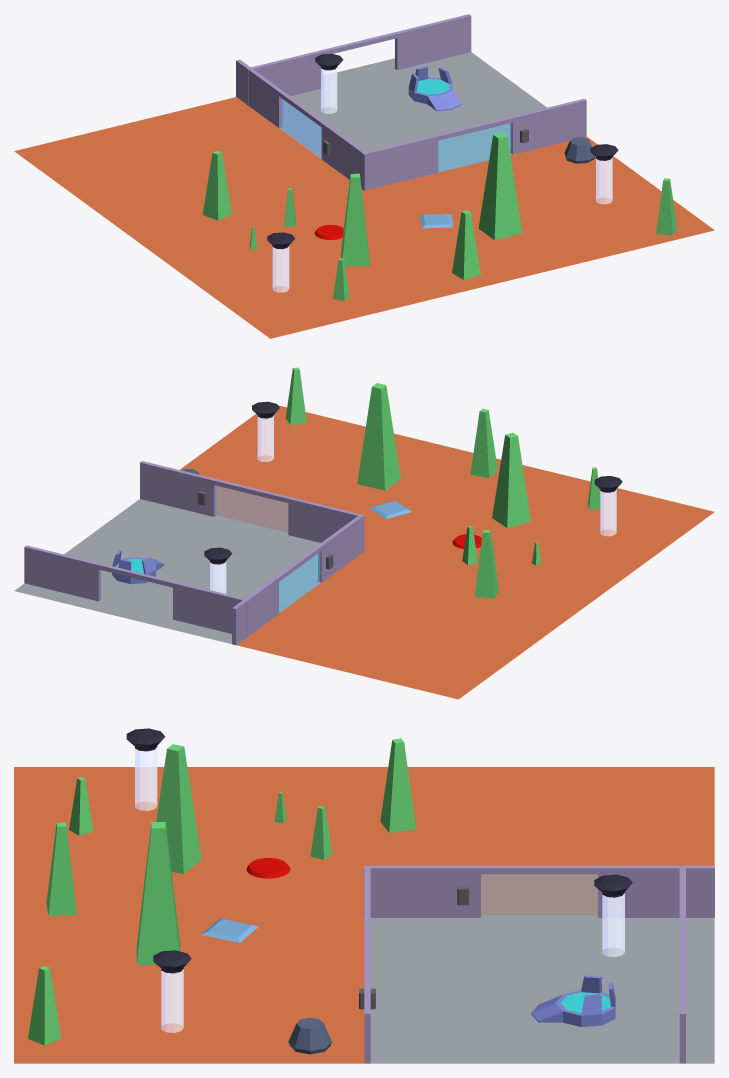
File: iris.glb
3 views of the same model, one above another, from view 1: azimuth 30°, elevation 25°; view 2: azimuth 150°, elevation 25°; view 3: azimuth 270°, elevation 25° (orthographic). The views are drawn at different scales.
Visible parts, largest first — view 1: Ground.003, Ground.002, Ground, Ground.001, WallNorth, WallNorth.001, WallEast, Plant Tree, Plant Tree.001, BarrierField.001, VortexGate, Plant Tree.004 (+7 smaller); view 2: Ground.003, Ground.002, Ground, Ground.001, WallNorth.001, WallNorth, WallEast, Plant Tree, Plant Tree.001, BarrierField.001, Plant Tree.003, BarrierField.002 (+6 smaller); view 3: Ground.001, Ground, Ground.002, Ground.003, WallEast, BarrierField.002, Plant Tree, Plant Tree.001, VortexGate, Plant Tree.004, VortexNode3, VortexNode2 (+10 smaller).
Part boxes in pixels (<box>): Ground.003: <box>14,97,363,244</box>; Ground.002: <box>142,191,491,338</box>; Ground: <box>365,136,714,284</box>; Ground.001: <box>238,52,546,178</box>; WallNorth: <box>362,98,586,190</box>; WallNorth.001: <box>246,14,471,106</box>; WallEast: <box>236,59,368,190</box>; Plant Tree: <box>478,132,522,240</box>; Plant Tree.001: <box>340,173,369,266</box>; BarrierField.001: <box>438,123,511,171</box>; VortexGate: <box>408,66,461,110</box>; Plant Tree.004: <box>202,150,231,220</box>; Ground.003: <box>236,551,586,699</box>; Ground.002: <box>365,458,714,605</box>; Ground: <box>180,405,473,550</box>; Ground.001: <box>14,499,320,643</box>; WallNorth.001: <box>24,545,249,637</box>; WallNorth: <box>140,461,364,552</box>; WallEast: <box>232,514,363,645</box>; Plant Tree: <box>357,383,400,490</box>; Plant Tree.001: <box>492,432,530,528</box>; BarrierField.001: <box>215,485,287,533</box>; Plant Tree.003: <box>470,408,497,478</box>; BarrierField.002: <box>279,552,319,611</box>; Ground.001: <box>370,915,714,1063</box>; Ground: <box>14,915,364,1063</box>; Ground.002: <box>14,767,364,915</box>; Ground.003: <box>364,767,714,915</box>; WallEast: <box>363,865,714,917</box>; BarrierField.002: <box>481,874,597,915</box>; Plant Tree: <box>136,822,180,964</box>; Plant Tree.001: <box>156,744,201,874</box>; VortexGate: <box>531,975,615,1026</box>; Plant Tree.004: <box>380,738,415,832</box>; VortexNode3: <box>126,728,165,810</box>; VortexNode2: <box>153,950,191,1032</box>.
Size of the model in its own units: 32.04 by 6.58 by 32.02.
